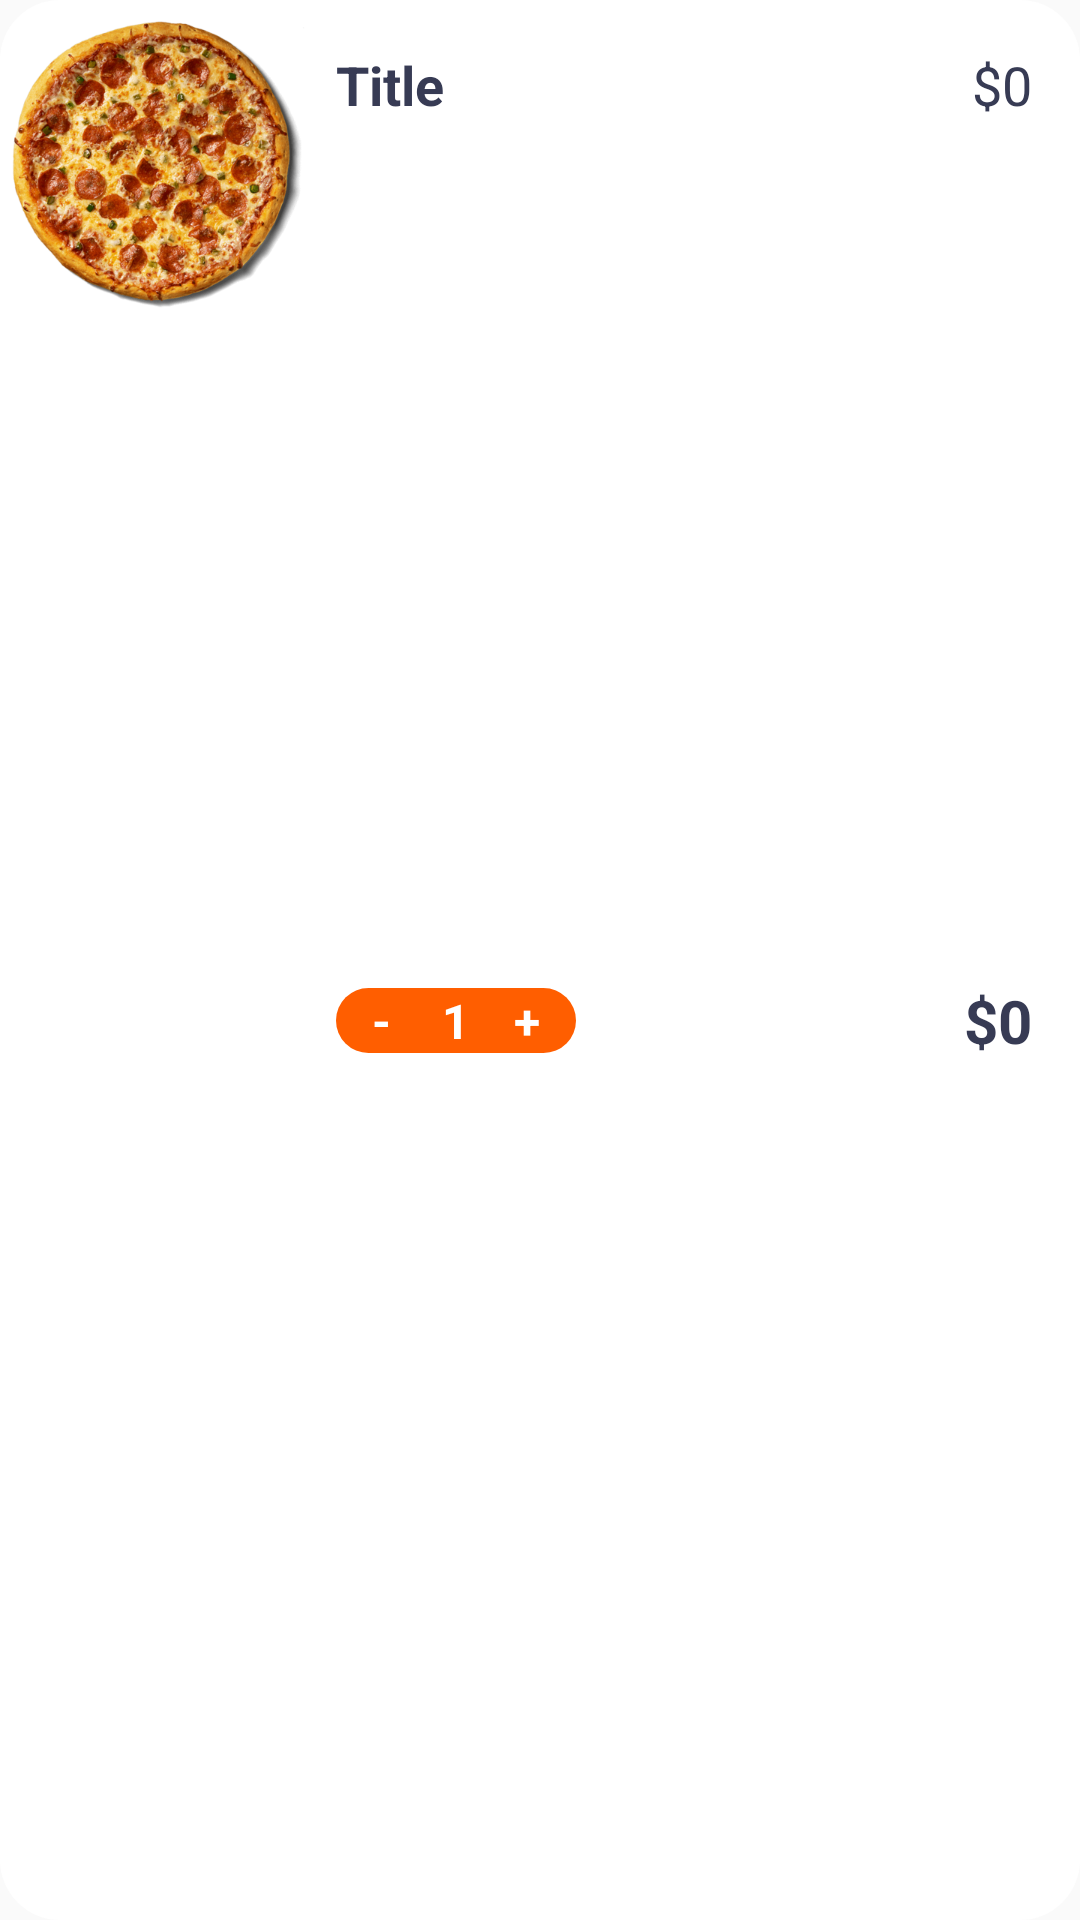

Icon bounding boxes for this 1080w x 1920h phone screenshot, format {"left": x1, "top": y1, "right": x2, "bottom": y2}:
pizza casey: {"left": 13, "top": 21, "right": 300, "bottom": 307}
